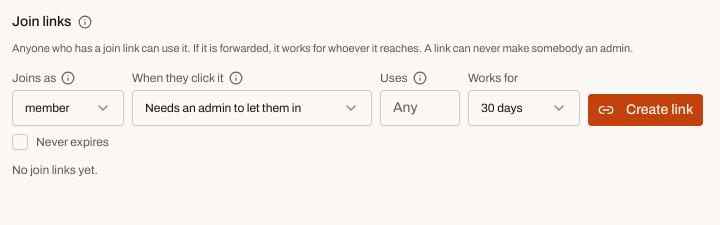
Test: GroupJoinLinks › defaults approval to "Needs an admin to let them in" for a member link and "Joins straight away" once switched to viewer
Click the dropdown with id "join-role": (68, 108) [12,90,124,126]
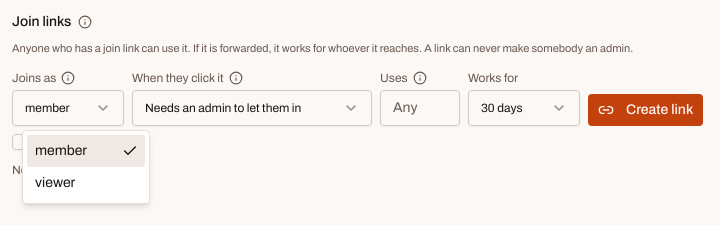
Click the option "viewer": (55, 182) [35,175,75,190]
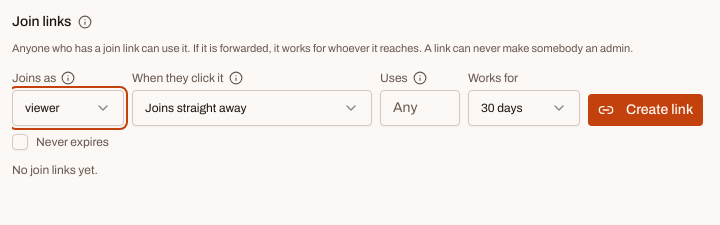
expect the text "Joins straight away" is shown: met, box [145,100,247,116]
